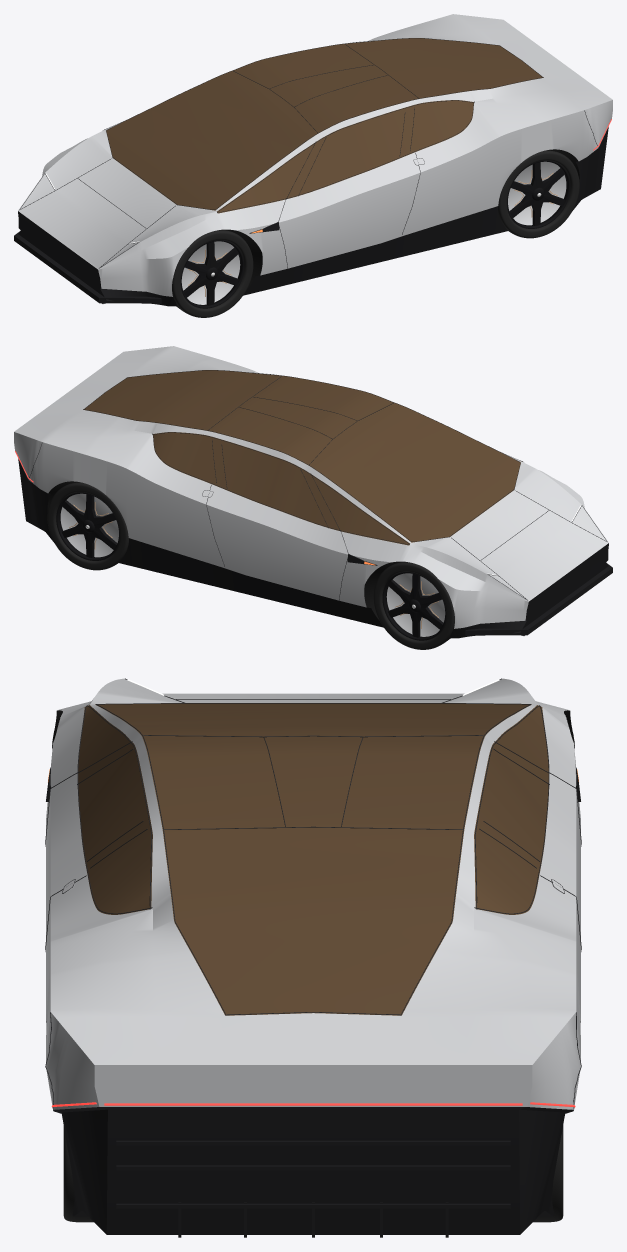
The model's file is wedge_car.glb.
The picture shows the model from 3 angles, top to bottom: view 1: azimuth 30°, elevation 25°; view 2: azimuth 150°, elevation 25°; view 3: azimuth 270°, elevation 25°; orthographic projection. The views are drawn at different scales.
Parts seen in each view (by area): view 1: Body, Tyre.001, Tyre.003, PanelLines_Top, RimDisc.001, RimDisc.003, Spokes.003, Spokes.001, FrontSplitter, PanelLines_Side, RimLip.001, RimLip.003; view 2: Body, Tyre.002, Tyre.004, PanelLines_Top, RimDisc.002, RimDisc.004, Spokes.004, Spokes.002, FrontSplitter, PanelLines_Side, RimLip.002, RimLip.004; view 3: Body, PanelLines_Top, PanelLines_Side, DiffuserTier, DiffuserTier.001, DiffuserTier.002, TailLamp, Tyre.004, Tyre.003.
Boxes of the visible parts, x1,y1,x2,y2 form: Body: (18, 14, 612, 306); Tyre.001: (172, 230, 253, 317); Tyre.003: (498, 150, 579, 238); PanelLines_Top: (19, 38, 543, 268); RimDisc.001: (181, 241, 240, 304); RimDisc.003: (508, 161, 566, 225); Spokes.003: (509, 162, 564, 225); Spokes.001: (183, 242, 238, 305); FrontSplitter: (14, 230, 161, 303); PanelLines_Side: (104, 40, 598, 268); RimLip.001: (180, 240, 244, 308); RimLip.003: (507, 160, 570, 228); Body: (14, 346, 608, 638); Tyre.002: (373, 562, 454, 649); Tyre.004: (47, 482, 128, 570); PanelLines_Top: (83, 370, 607, 600); RimDisc.002: (386, 573, 445, 636); RimDisc.004: (60, 493, 118, 557); Spokes.004: (62, 494, 117, 557); Spokes.002: (388, 574, 443, 637); FrontSplitter: (465, 562, 612, 635); PanelLines_Side: (28, 372, 522, 600); RimLip.002: (382, 572, 446, 640); RimLip.004: (56, 492, 119, 560); Body: (46, 678, 580, 1234); PanelLines_Top: (95, 678, 531, 1015); PanelLines_Side: (45, 705, 581, 1110); DiffuserTier: (116, 1140, 510, 1145); DiffuserTier.001: (116, 1165, 510, 1170); DiffuserTier.002: (116, 1203, 510, 1208); TailLamp: (51, 1102, 575, 1107); Tyre.004: (533, 1125, 563, 1222); Tyre.003: (63, 1126, 93, 1222).
Size of the model in its own units: 4.77 by 1.34 by 2.21.
